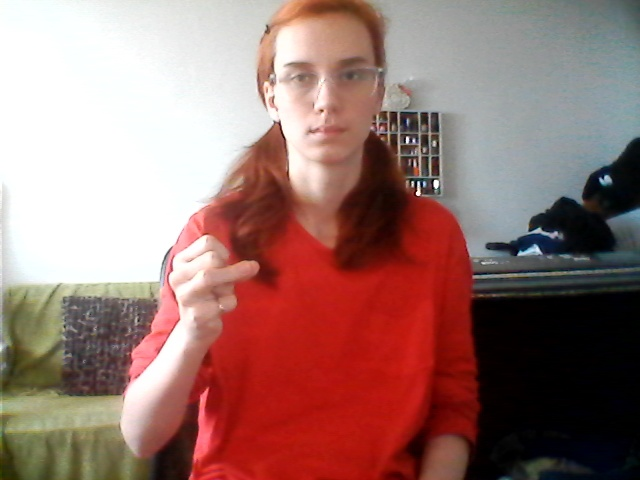r: (156, 231, 271, 344)
